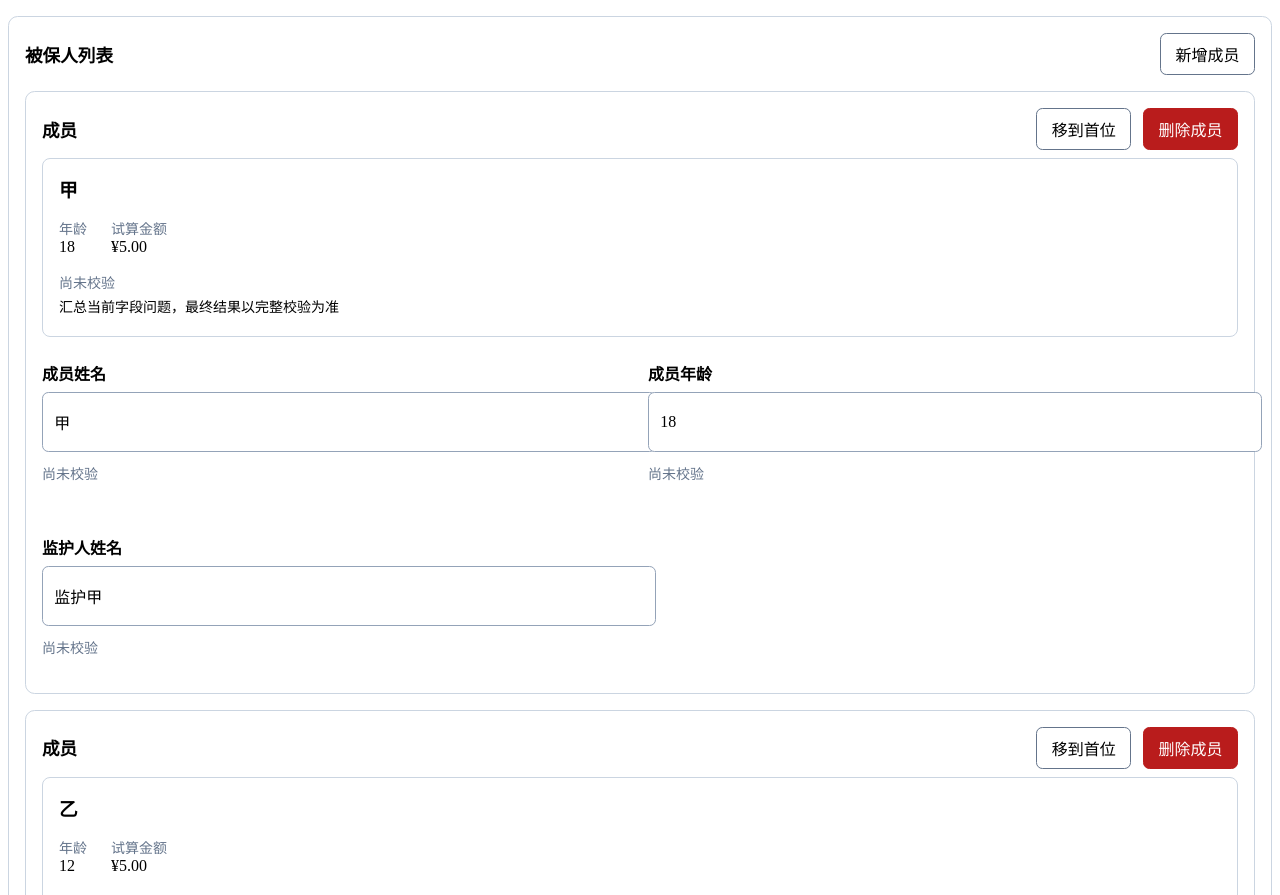
Scenario: adds independent template instances without mutating existing members
This screenshot has width=1280, height=895.
Later steps or results of the test are not shown.
Click the button "新增成员": (1208, 54) [1160,33,1255,75]
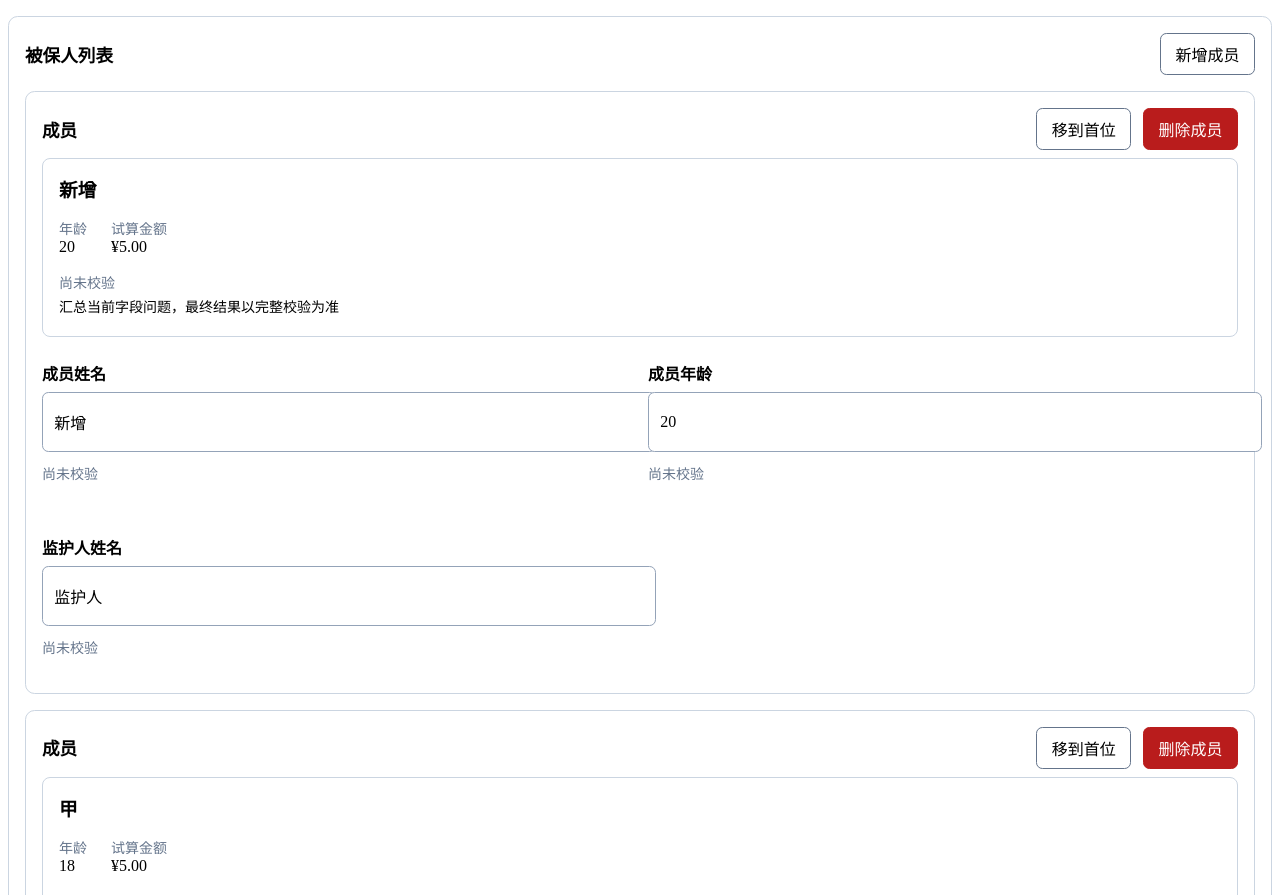
Check: the number of fields labelled "成员姓名" is 3
